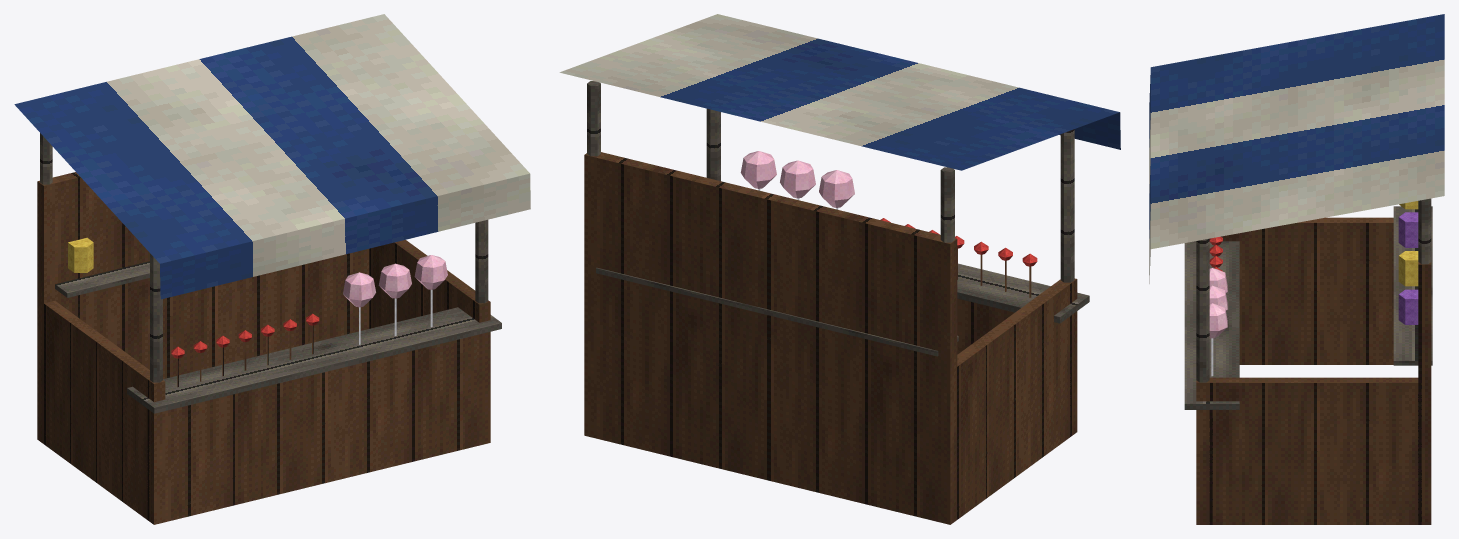
The model's file is puesto_dulces.obj.
3 views of the same model, side by side, from view 1: azimuth 30°, elevation 25°; view 2: azimuth 150°, elevation 25°; view 3: azimuth 270°, elevation 25° (orthographic). The views are drawn at different scales.
Visible parts, largest first — view 1: puesto_dulces; view 2: puesto_dulces; view 3: puesto_dulces.
Boxes of the visible parts, x1,y1,x2,y2 form: puesto_dulces: [14, 14, 530, 524]; puesto_dulces: [559, 14, 1120, 524]; puesto_dulces: [1149, 14, 1444, 524].
Bounding box in the file's own units: 3.3 × 2.85 × 2.26.
Materials: 8 (8 with a texture image).
